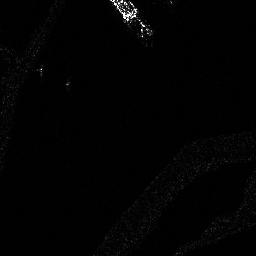ship: (108, 1, 155, 38)
